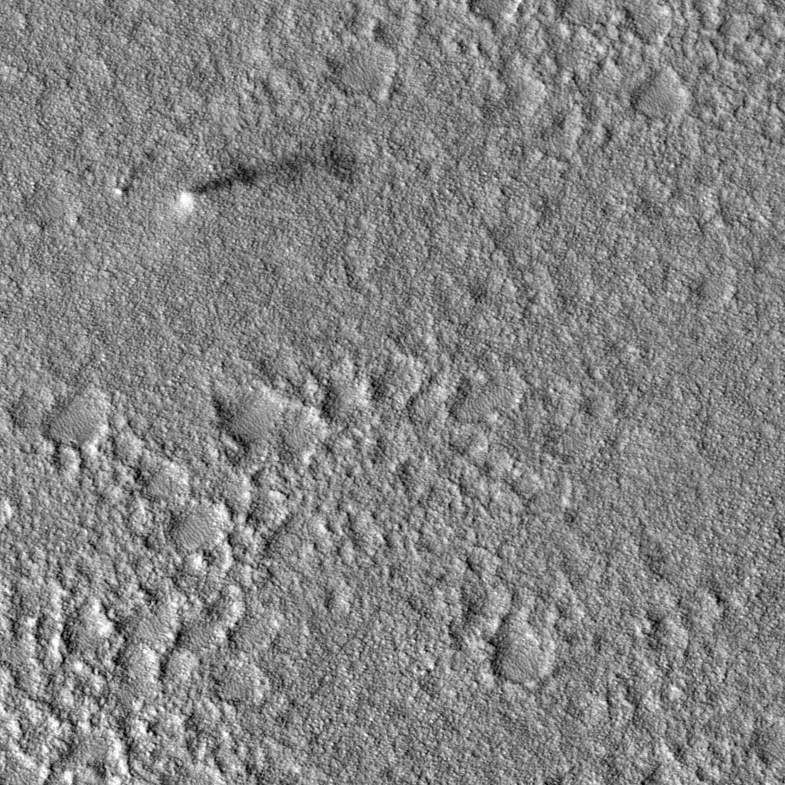dust_devil: (174, 135, 357, 220)
